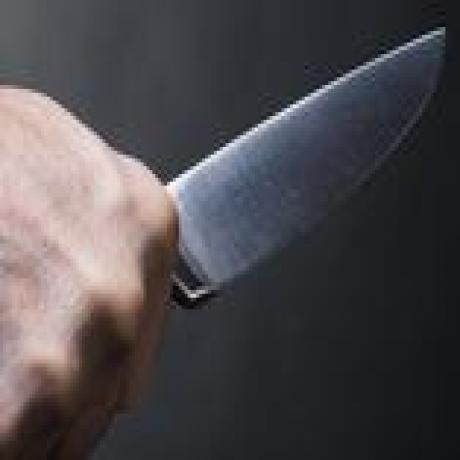weapon: (156, 21, 445, 305)
